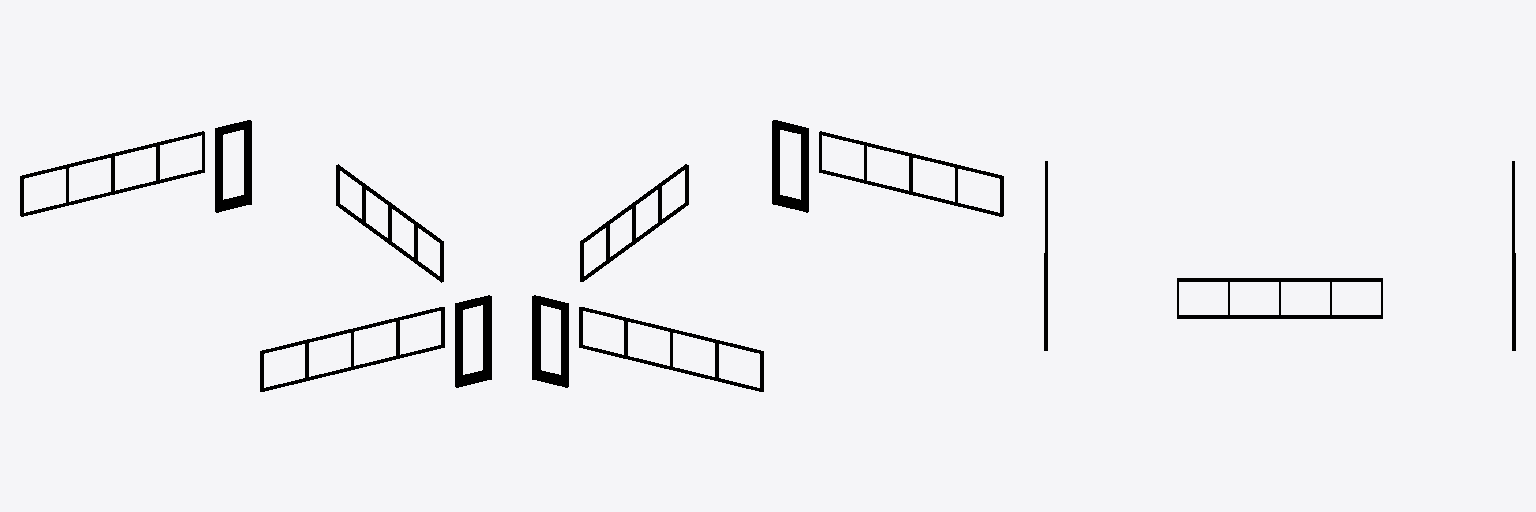
URDF robot description (Frames):
<?xml version="1.0" encoding="utf-8"?>
<!-- This URDF was automatically created by SolidWorks to URDF Exporter! Originally created by Stephen Brawner ([email redacted]) 
     Commit Version: 1.5.1-0-g916b5db  Build Version: 1.5.7152.31018
     For more information, please see http://wiki.ros.org/sw_urdf_exporter -->
<robot
  name="Frames">
  <link
    name="base_link">
    <inertial>
      <origin
        xyz="4.79475019513715 -5.48186119087491 1.33712751339411"
        rpy="0 0 0" />
      <mass
        value="298.615452307199" />
      <inertia
        ixx="216.533699352872"
        ixy="1.76699290413911E-14"
        ixz="3.31805944935109E-14"
        iyy="354.821078652118"
        iyz="1.10522049988853E-13"
        izz="384.078696020326" />
    </inertial>
    <visual>
      <origin
        xyz="0 0 0"
        rpy="0 0 0" />
      <geometry>
        <mesh
          filename="package://Frames/meshes/base_link.STL" />
      </geometry>
      <material
        name="">
        <color
          rgba="0 0 0 1" />
      </material>
    </visual>
    <collision>
      <origin
        xyz="0 0 0"
        rpy="0 0 0" />
      <geometry>
        <mesh
          filename="package://Frames/meshes/base_link.STL" />
      </geometry>
    </collision>
  </link>
</robot>

--- Facts derived from the render (not from the file) ---
The picture shows the robot from 3 angles, left to right: view 1: azimuth 30°, elevation 25°; view 2: azimuth 150°, elevation 25°; view 3: azimuth 270°, elevation 25°; orthographic projection.
Robot: Frames — 1 links, 0 joints (none); root link base_link; default pose: all joints at 0.
Visible links, largest first — view 1: base_link; view 2: base_link; view 3: base_link.
Boxes of the visible links, x1,y1,x2,y2 form: base_link: (20,120,491,391); base_link: (532,120,1003,391); base_link: (1044,161,1515,350).
Bounding box of the posed robot: 6.55 × 10.96 × 2.08 m (x, y, z).
1 mesh visuals loaded from 1 distinct referenced files (1 binary STL).
